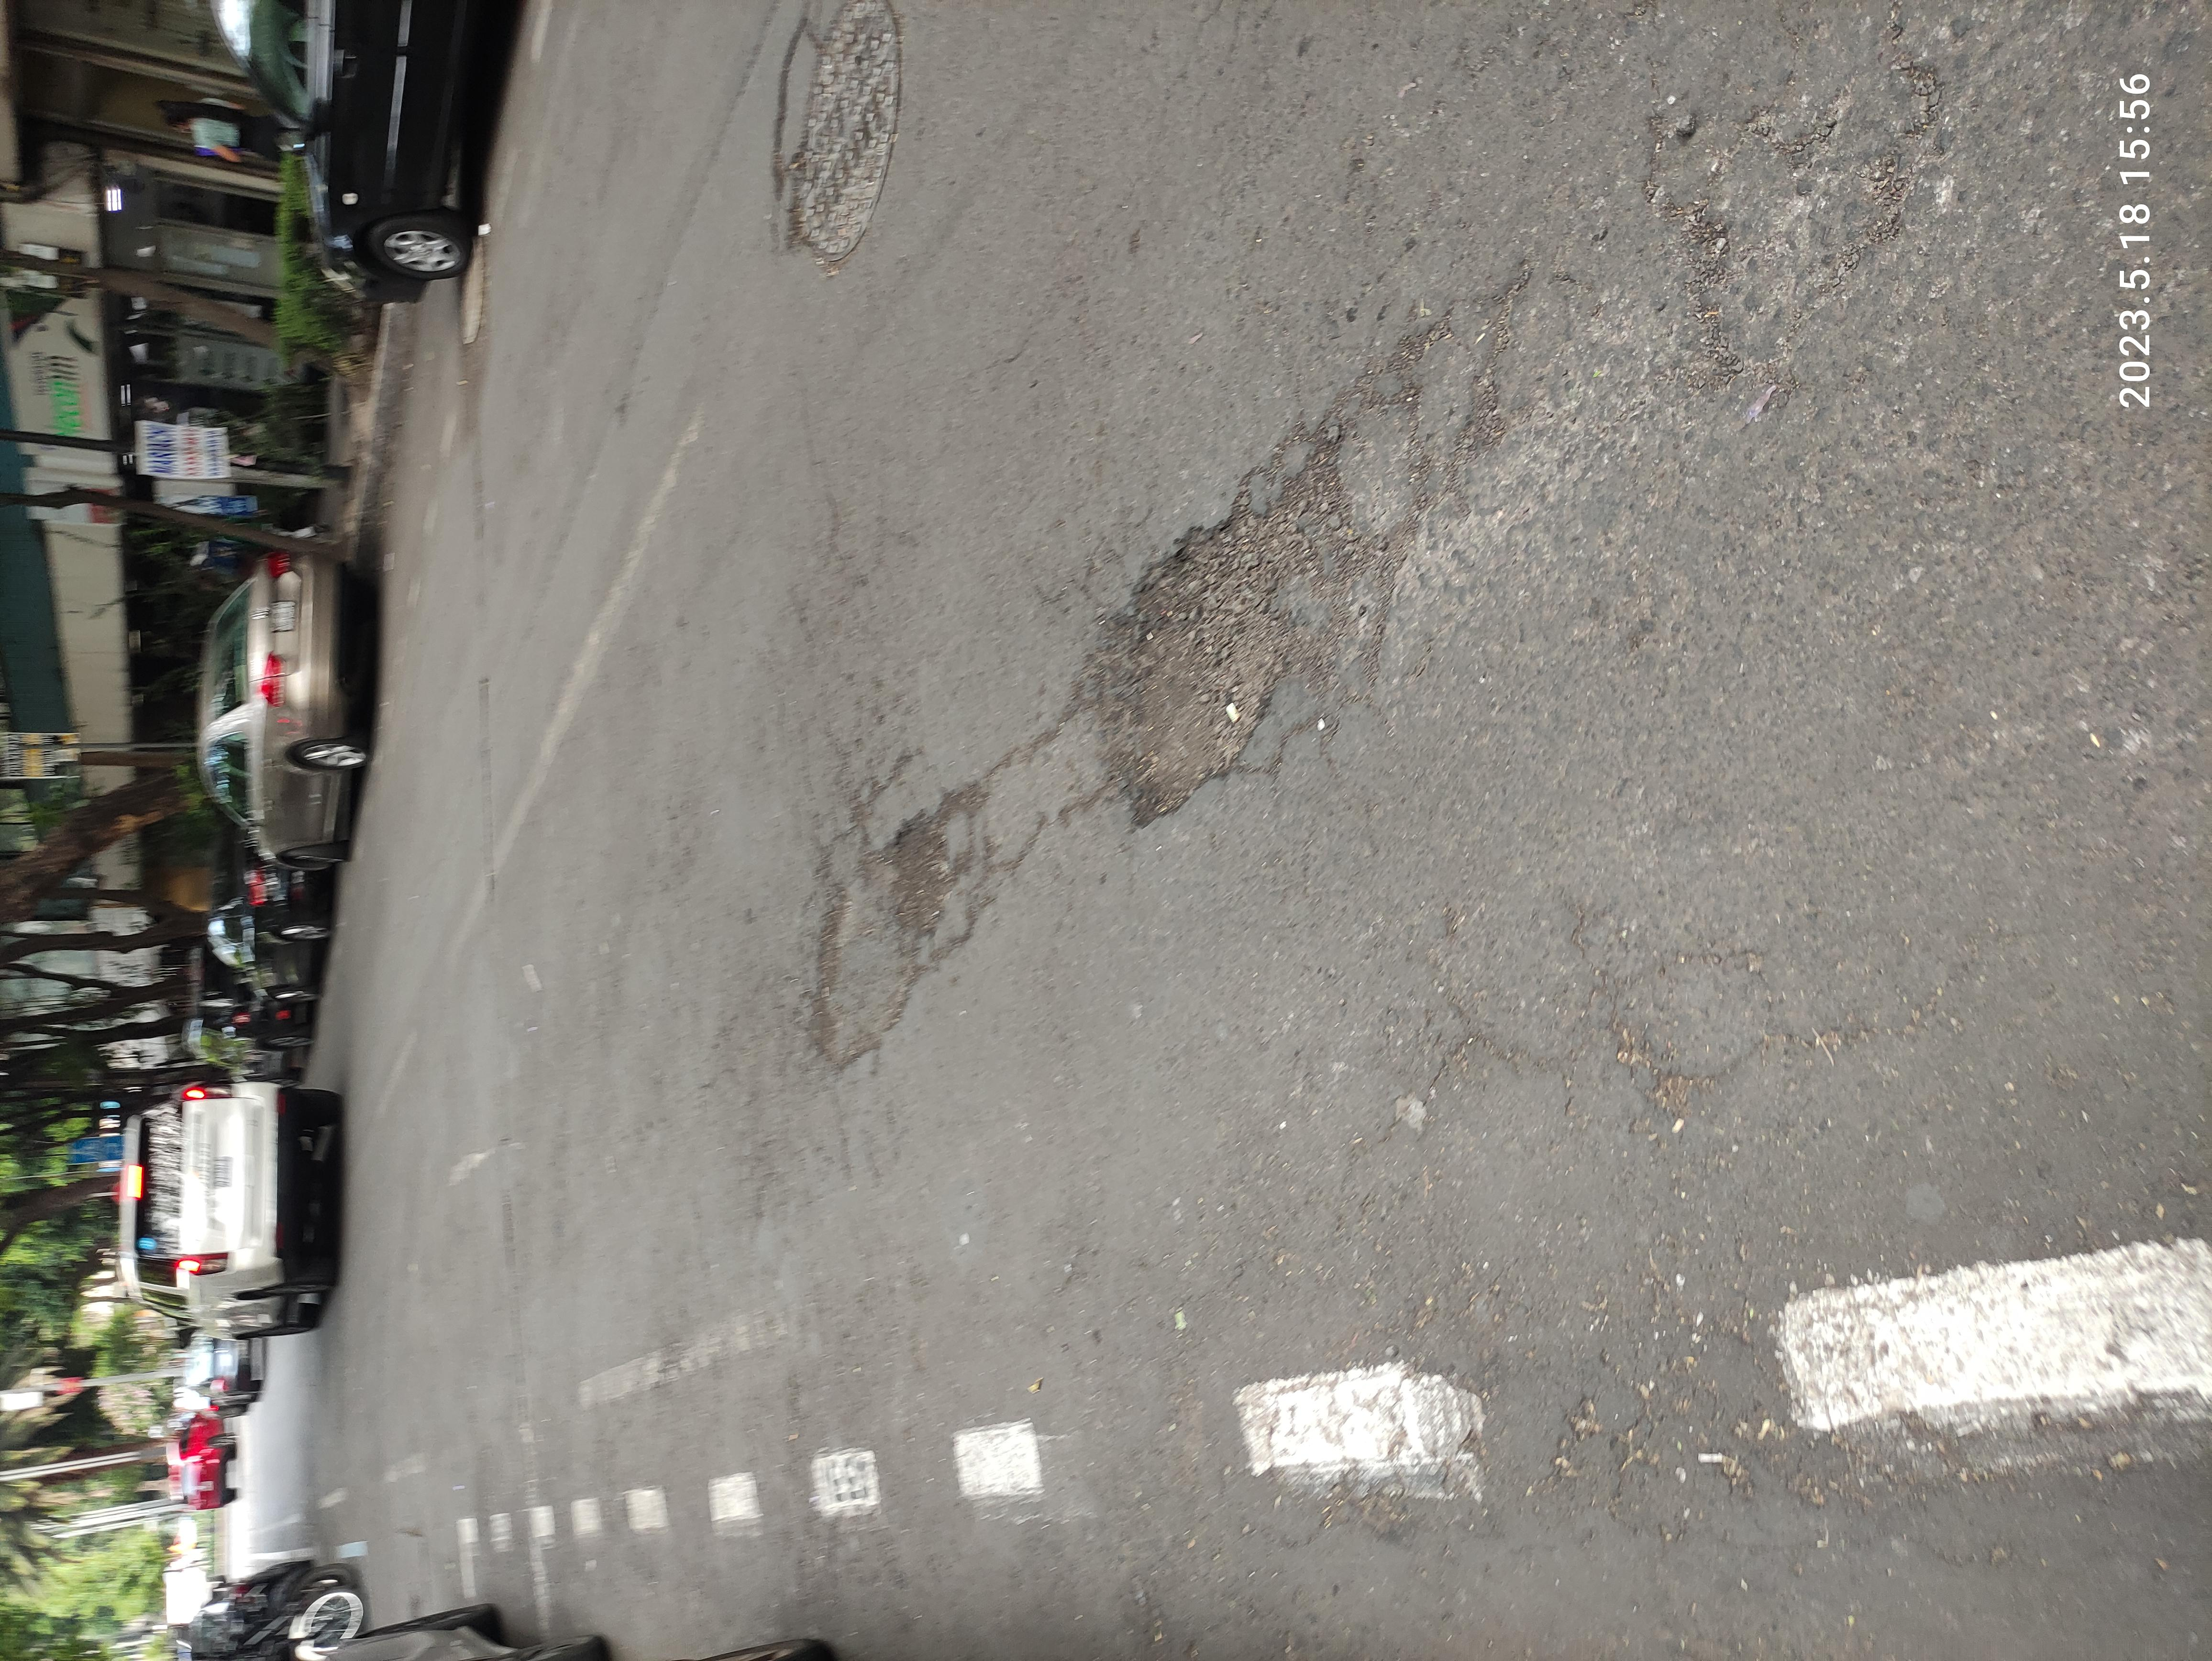alligator-crack: (730, 596, 1497, 653), (608, 524, 881, 584)
crack: (733, 1069, 915, 1232)
pothole: (1114, 804, 1673, 1078), (957, 662, 1144, 720), (1956, 572, 2188, 613)
